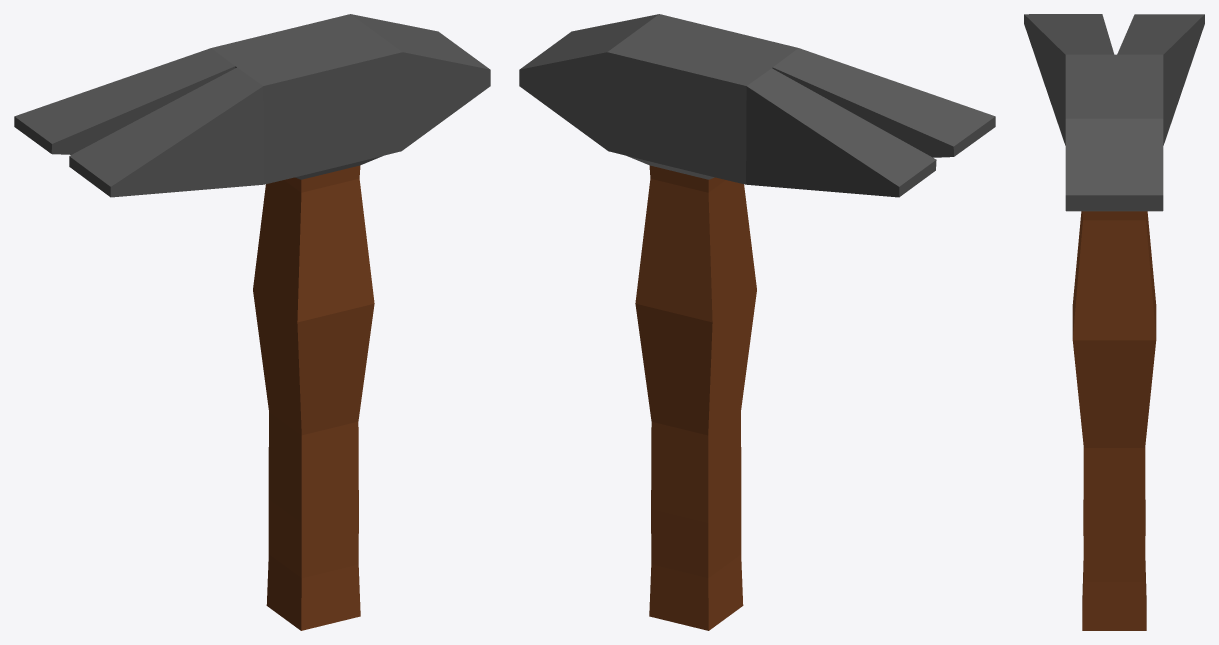
File: HammerMesh.fbx
The picture shows the model from 3 angles, left to right: view 1: azimuth 30°, elevation 25°; view 2: azimuth 150°, elevation 25°; view 3: azimuth 270°, elevation 25°; orthographic projection. The views are drawn at different scales.
Parts seen in each view (by area): view 1: Hammer; view 2: Hammer; view 3: Hammer.
Boxes of the visible parts, x1=… form: Hammer: x1=14, y1=14, x2=490, y2=630; Hammer: x1=519, y1=14, x2=995, y2=630; Hammer: x1=1024, y1=14, x2=1204, y2=630.
Size of the model in its own units: 666 by 891 by 277.
